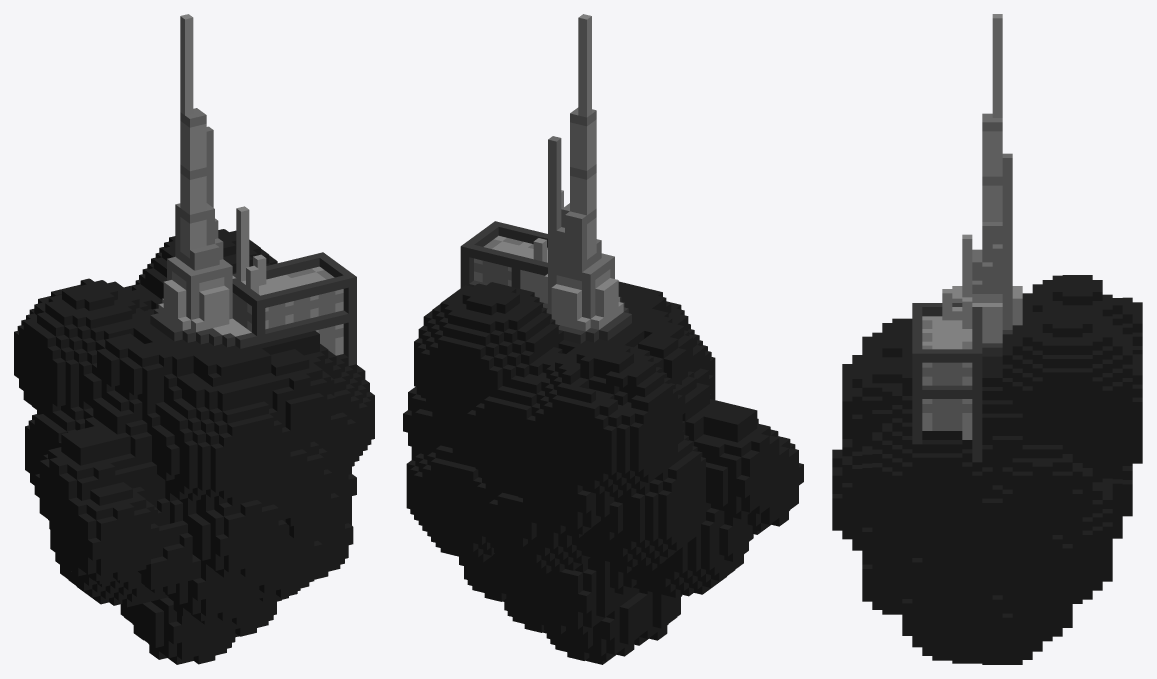
The model's file is Beacon1.obj.
3 views of the same model, side by side, from view 1: azimuth 30°, elevation 25°; view 2: azimuth 150°, elevation 25°; view 3: azimuth 270°, elevation 25° (orthographic). The views are drawn at different scales.
Bounding box in the file's own units: 35 × 71 × 31.
1 material, 1 textured.
